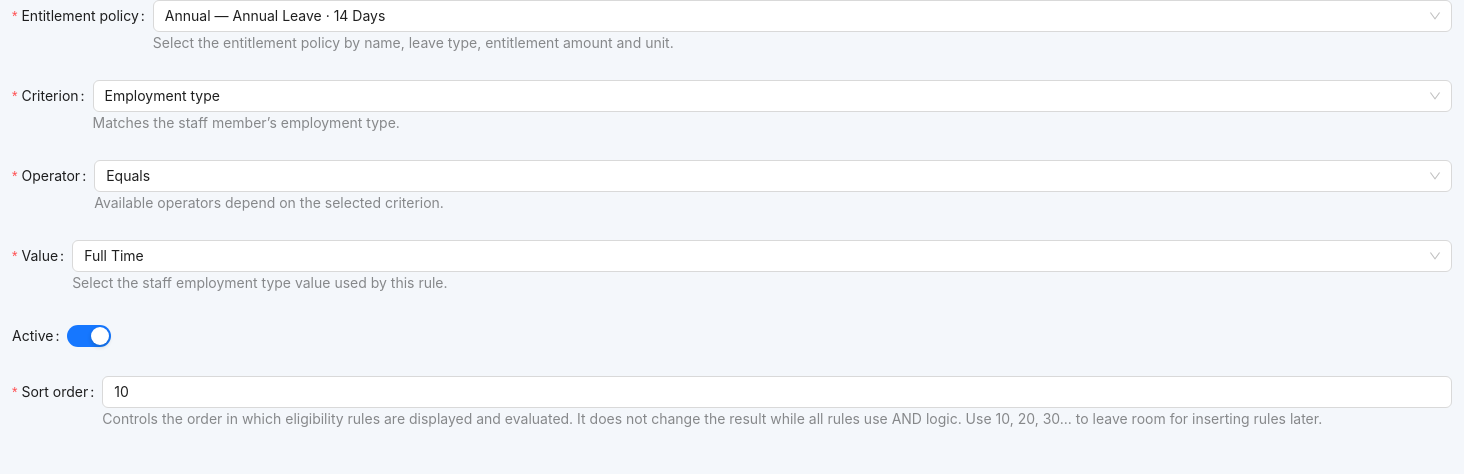
employment type eligibility rule editor › uses the shared human-readable employment type options for single values
Expected: the element named "Value" reads "Full Time", [84,247,144,264]
Press the mouse on the dropdown labelled "Value" at (753, 256), box [84,241,1422,271]
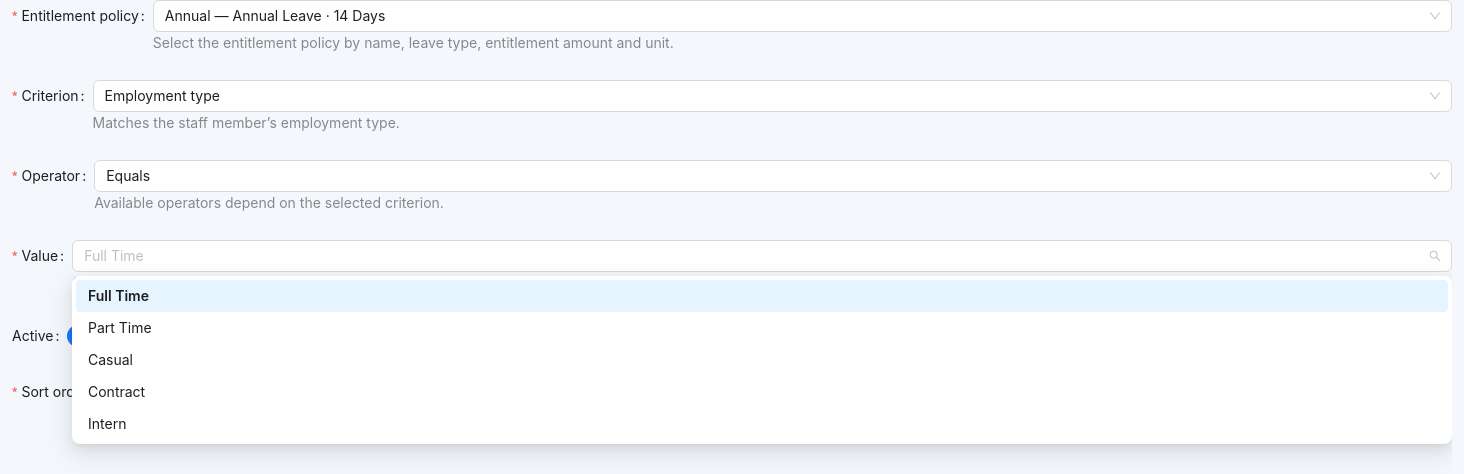
Now the text "Part Time" is shown, box [88,319,152,336]
Now the text "Casual" is shown, box [88,351,133,368]
Now the text "Contract" is shown, box [88,383,145,400]
